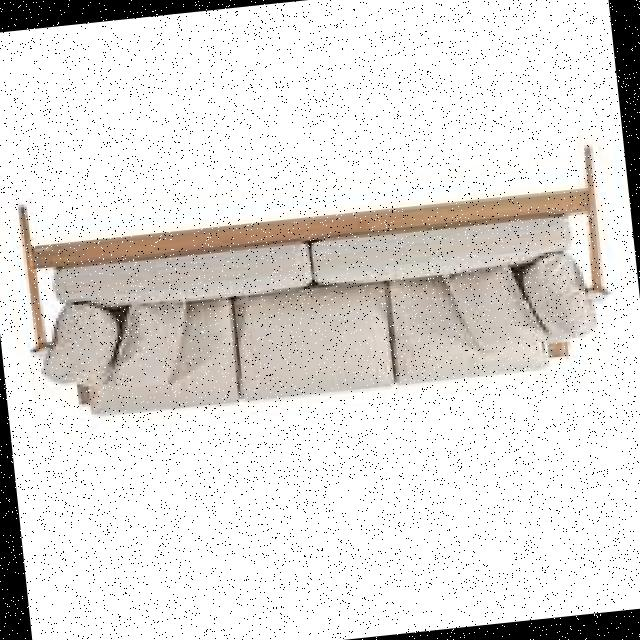Sofa: (0, 104, 635, 459)
